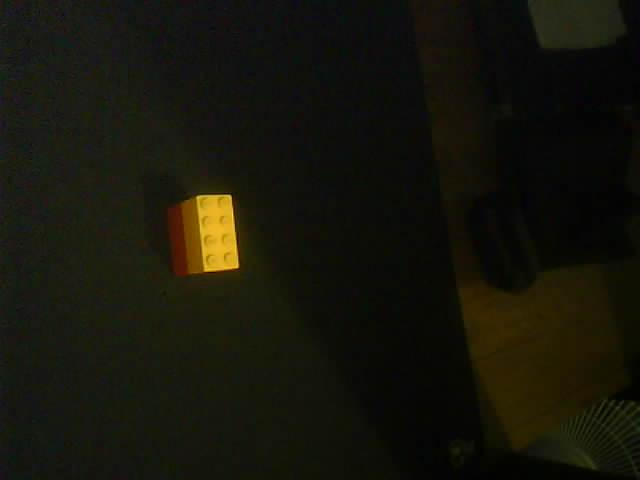lego: (167, 193, 240, 278)
